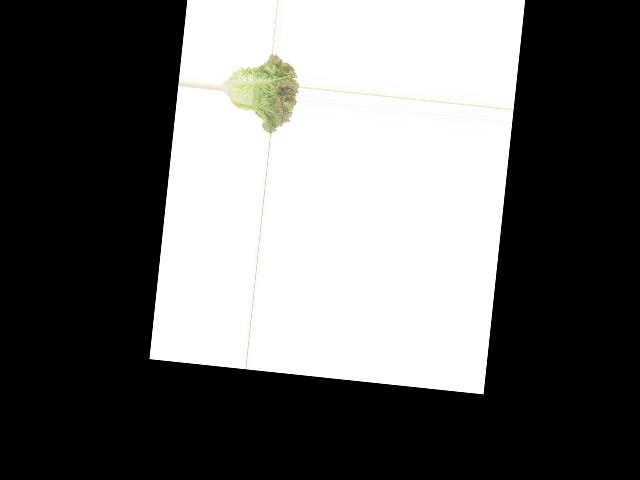lettuce: (217, 50, 301, 136)
